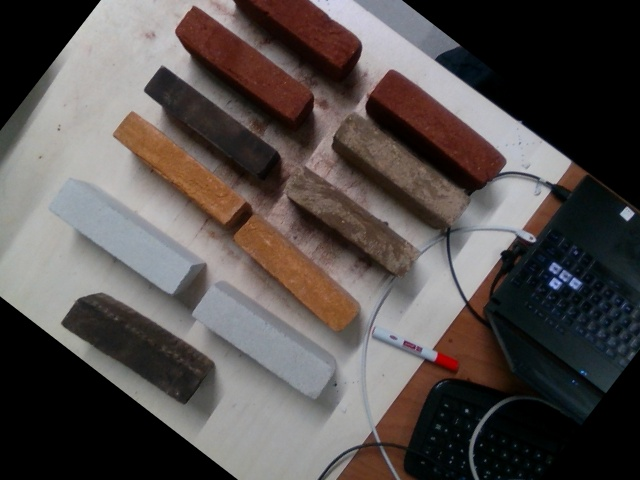brick-side: (370, 64, 505, 185), (49, 178, 191, 293), (172, 7, 314, 121), (190, 285, 333, 398), (140, 62, 279, 178), (58, 294, 202, 405), (112, 108, 243, 225), (332, 111, 468, 221), (229, 214, 358, 329), (282, 165, 416, 275)
